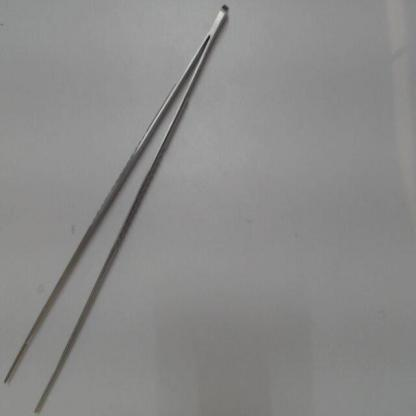DeBakey Dissector: (1, 5, 233, 413)
